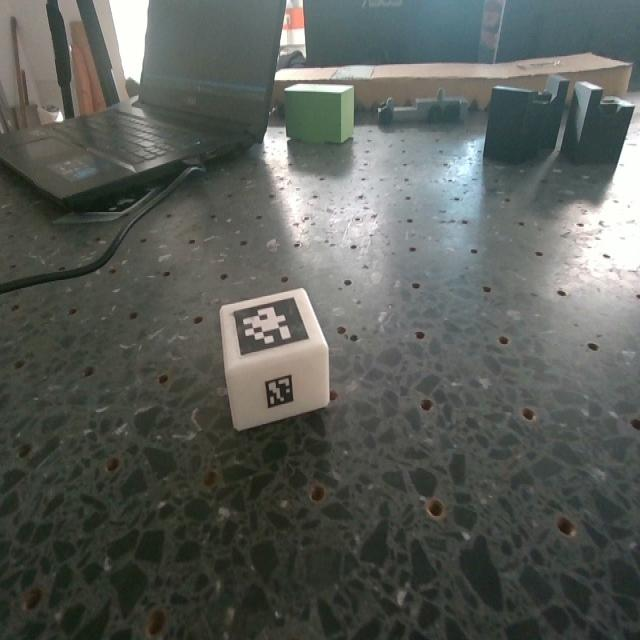Cube: (220, 284, 329, 428)
